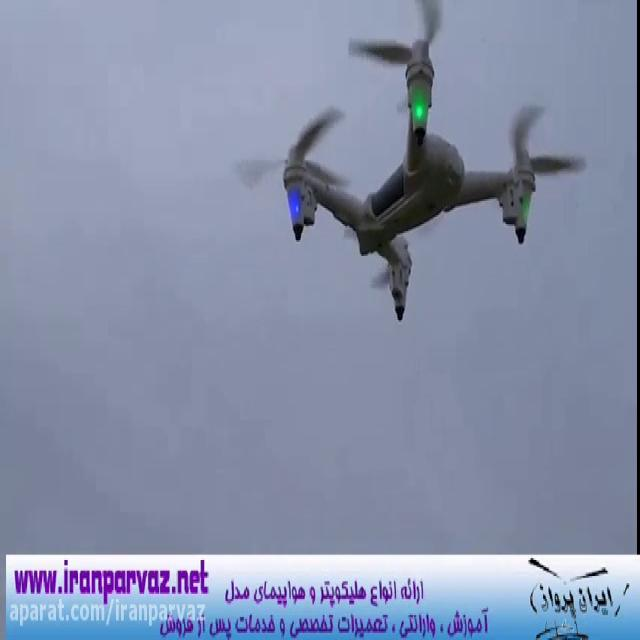drone: (231, 0, 595, 325)
